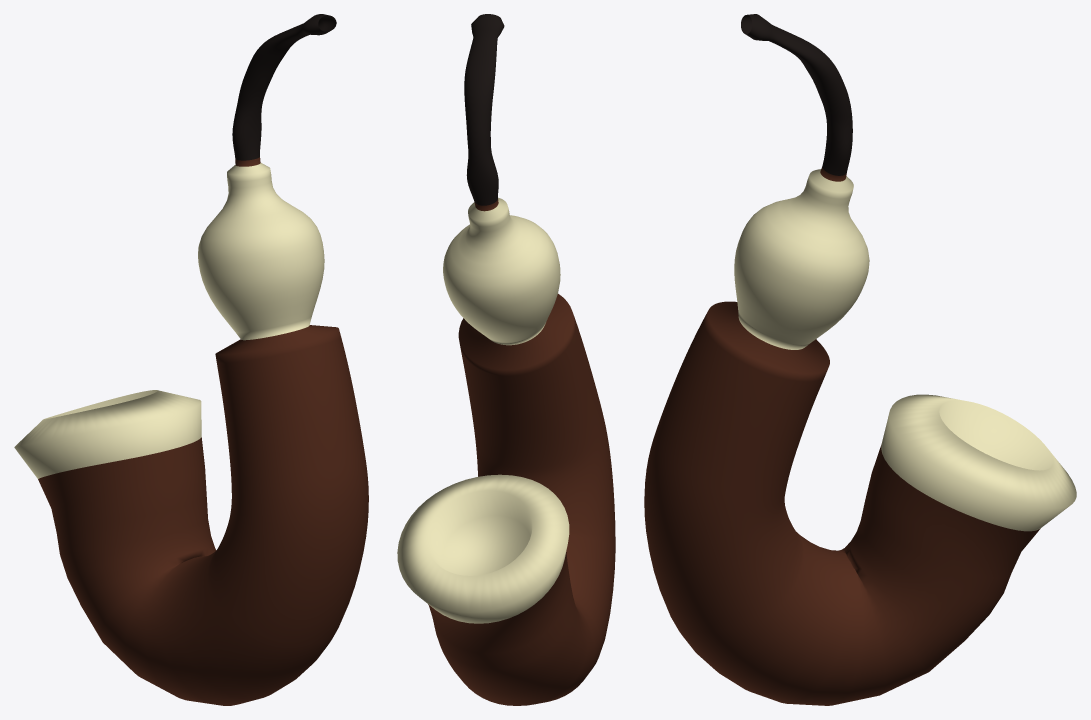
The model's file is MM__BadeDyNat_pipe_21.glb.
3 renders of one model, left to right at view 1: azimuth 30°, elevation 25°; view 2: azimuth 150°, elevation 25°; view 3: azimuth 270°, elevation 25°, orthographic. The views are drawn at different scales.
Visible parts, largest first — view 1: GammelPipe; view 2: GammelPipe; view 3: GammelPipe.
Part boxes in pixels (box(x1,y1,x2,y2)): GammelPipe: box(14, 14, 368, 705); GammelPipe: box(397, 14, 615, 705); GammelPipe: box(644, 14, 1076, 705).
Size of the model in its own units: 0.1426 by 0.4456 by 0.2413.
